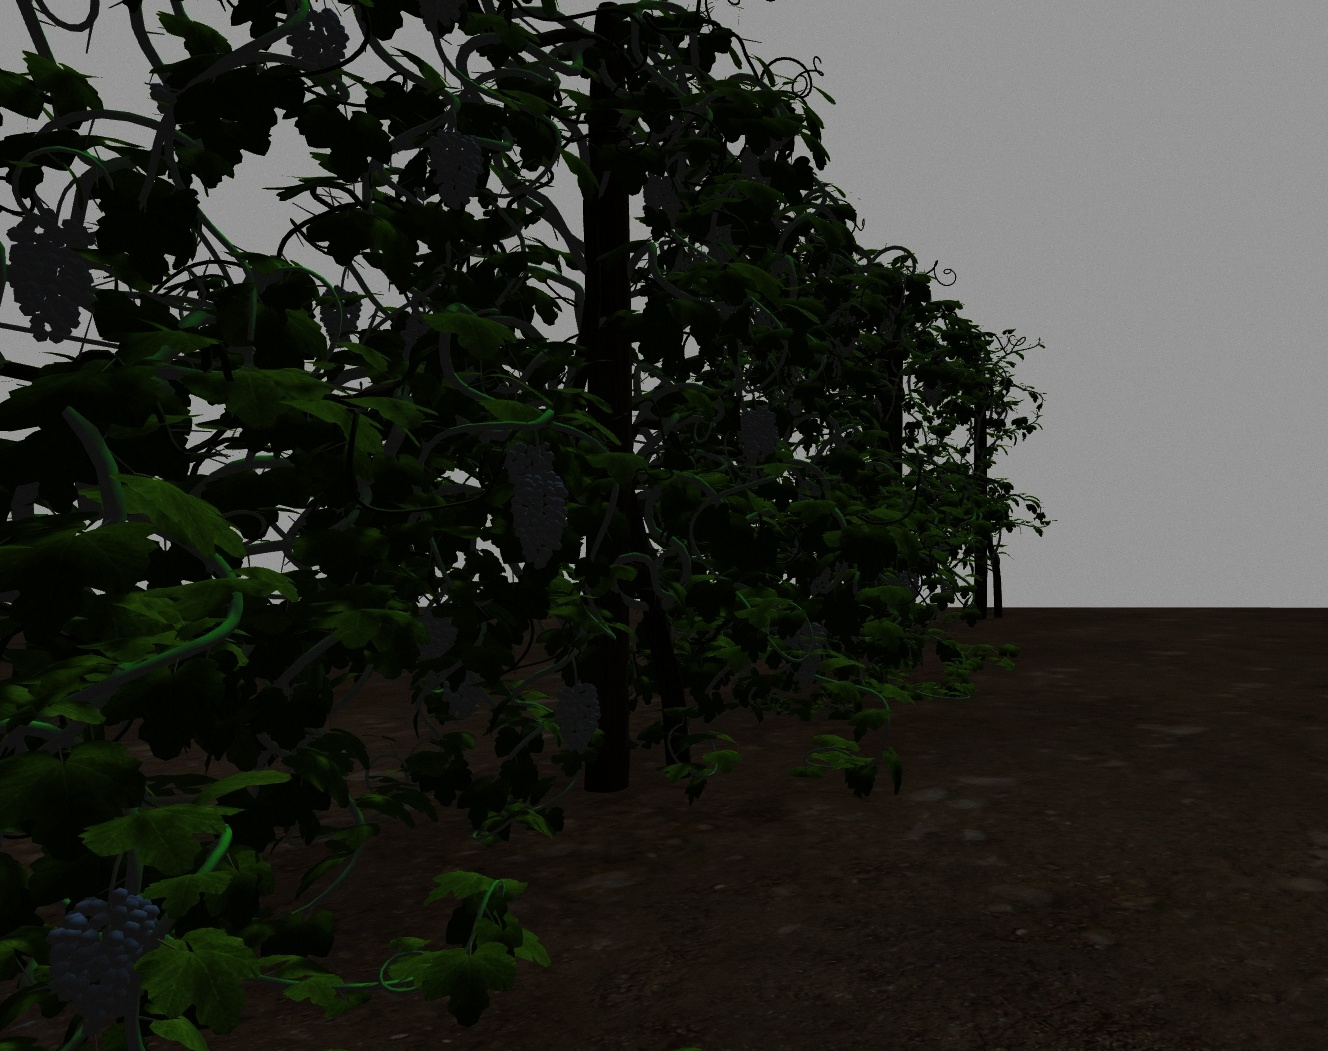grape: (43, 886, 165, 1039), (5, 212, 98, 344), (515, 473, 570, 571), (429, 127, 485, 211), (288, 10, 348, 87), (554, 681, 604, 757), (317, 286, 363, 344), (789, 621, 827, 690), (416, 616, 458, 677), (739, 406, 780, 462), (506, 442, 555, 480), (441, 679, 481, 719), (659, 179, 682, 224), (641, 172, 665, 211)
